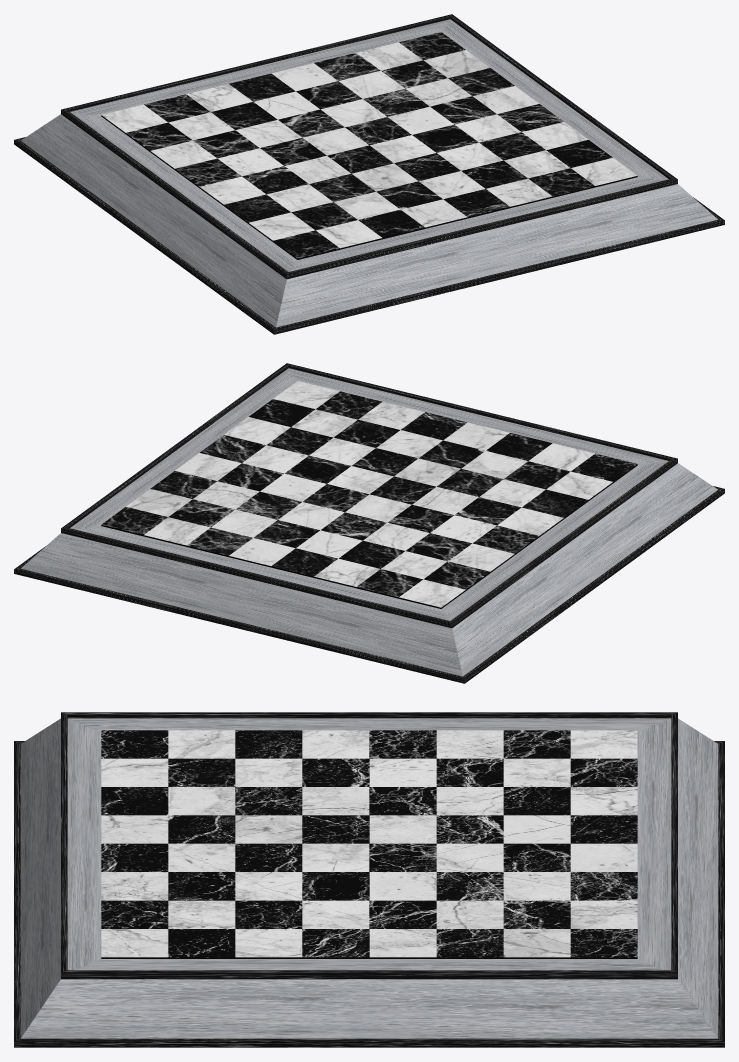
Rendered from chess-piece-3.glb.
3 views of the same model, one above another, from view 1: azimuth 30°, elevation 25°; view 2: azimuth 150°, elevation 25°; view 3: azimuth 270°, elevation 25° (orthographic). The views are drawn at different scales.
Parts seen in each view (by area): view 1: pCube1, pCube9, pCube8, pCube18, pCube19, pCube16, pCube17, pCube12, pCube4, pCube15, pCube7, pCube6 (+1 smaller); view 2: pCube1, pCube11, pCube8, pCube18, pCube17, pCube16, pCube19, pCube14, pCube6, pCube15, pCube7, pCube4 (+1 smaller); view 3: pCube1, pCube10, pCube9, pCube11, pCube17, pCube19, pCube16, pCube13, pCube18, pCube5, pCube7, pCube12 (+3 smaller).
Boxes of the visible parts, left/top/right/bottom form: pCube1: left=101, top=32, right=637, bottom=259; pCube9: left=276, top=184, right=717, bottom=327; pCube8: left=21, top=114, right=286, bottom=326; pCube18: left=442, top=19, right=668, bottom=180; pCube19: left=70, top=19, right=449, bottom=116; pCube16: left=71, top=113, right=297, bottom=271; pCube17: left=290, top=177, right=663, bottom=271; pCube12: left=274, top=219, right=724, bottom=334; pCube4: left=286, top=178, right=677, bottom=279; pCube15: left=14, top=140, right=275, bottom=334; pCube7: left=61, top=109, right=288, bottom=278; pCube6: left=61, top=14, right=451, bottom=111; pCube1: left=101, top=381, right=637, bottom=608; pCube11: left=21, top=533, right=462, bottom=676; pCube8: left=452, top=463, right=717, bottom=675; pCube18: left=70, top=368, right=296, bottom=529; pCube17: left=289, top=368, right=668, bottom=465; pCube16: left=441, top=462, right=667, bottom=620; pCube19: left=75, top=526, right=448, bottom=620; pCube14: left=14, top=568, right=464, bottom=683; pCube6: left=61, top=527, right=452, bottom=628; pCube15: left=463, top=489, right=724, bottom=683; pCube7: left=450, top=458, right=677, bottom=627; pCube4: left=287, top=363, right=677, bottom=460; pCube1: left=101, top=730, right=637, bottom=958; pCube10: left=21, top=979, right=717, bottom=1038; pCube9: left=20, top=718, right=60, bottom=1038; pCube11: left=678, top=718, right=718, bottom=1038; pCube17: left=67, top=718, right=101, bottom=970; pCube19: left=637, top=718, right=671, bottom=970; pCube16: left=68, top=718, right=670, bottom=731; pCube13: left=14, top=1038, right=724, bottom=1047; pCube18: left=75, top=959, right=663, bottom=970; pCube5: left=61, top=970, right=677, bottom=979; pCube7: left=61, top=712, right=677, bottom=718; pCube12: left=14, top=741, right=20, bottom=1041.
Bounding box in the file's own units: 10.6 × 0.9 × 10.6.
Materials: 7 (6 with a texture image).
